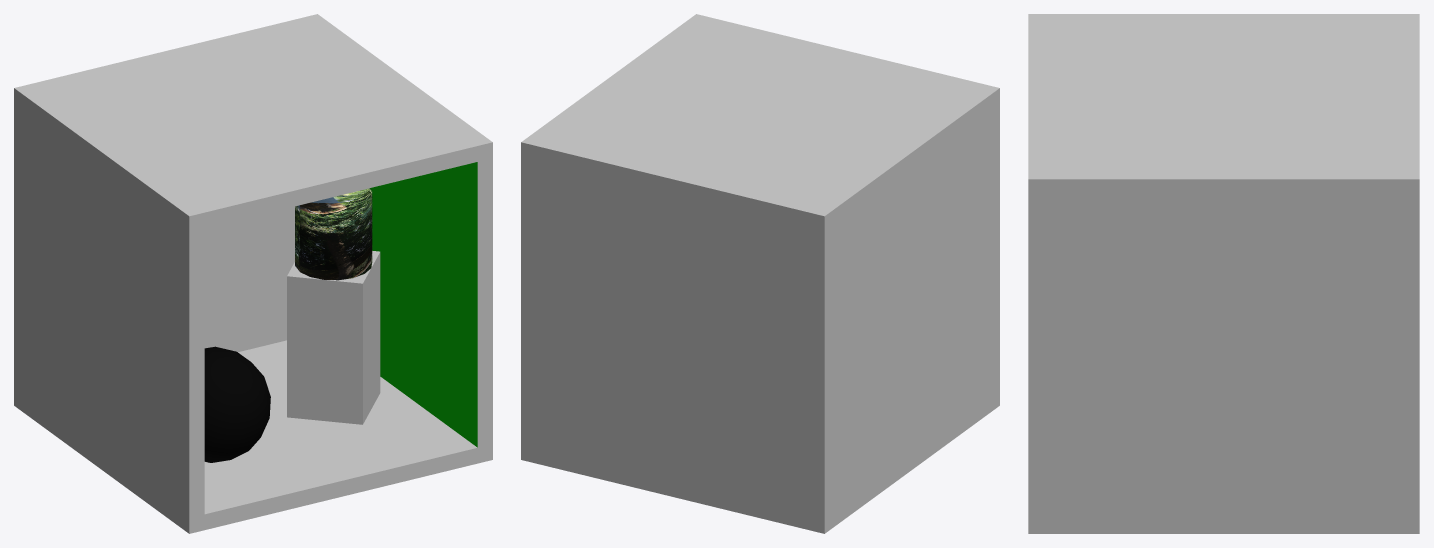
The model's file is cornel_box.fbx.
The picture shows the model from 3 angles, left to right: view 1: azimuth 30°, elevation 25°; view 2: azimuth 150°, elevation 25°; view 3: azimuth 270°, elevation 25°; orthographic projection. The views are drawn at different scales.
Visible parts, largest first — view 1: box_object2, box1, sphere1, tube_object1; view 2: box_object2; view 3: box_object2.
Part boxes in pixels (bbox=[...]): box_object2: bbox=[14, 14, 492, 533]; box1: bbox=[287, 251, 380, 424]; sphere1: bbox=[204, 346, 270, 462]; tube_object1: bbox=[295, 188, 372, 280]; box_object2: bbox=[521, 14, 999, 533]; box_object2: bbox=[1028, 14, 1419, 533].
Bounding box in the file's own units: 9 × 9 × 9.
